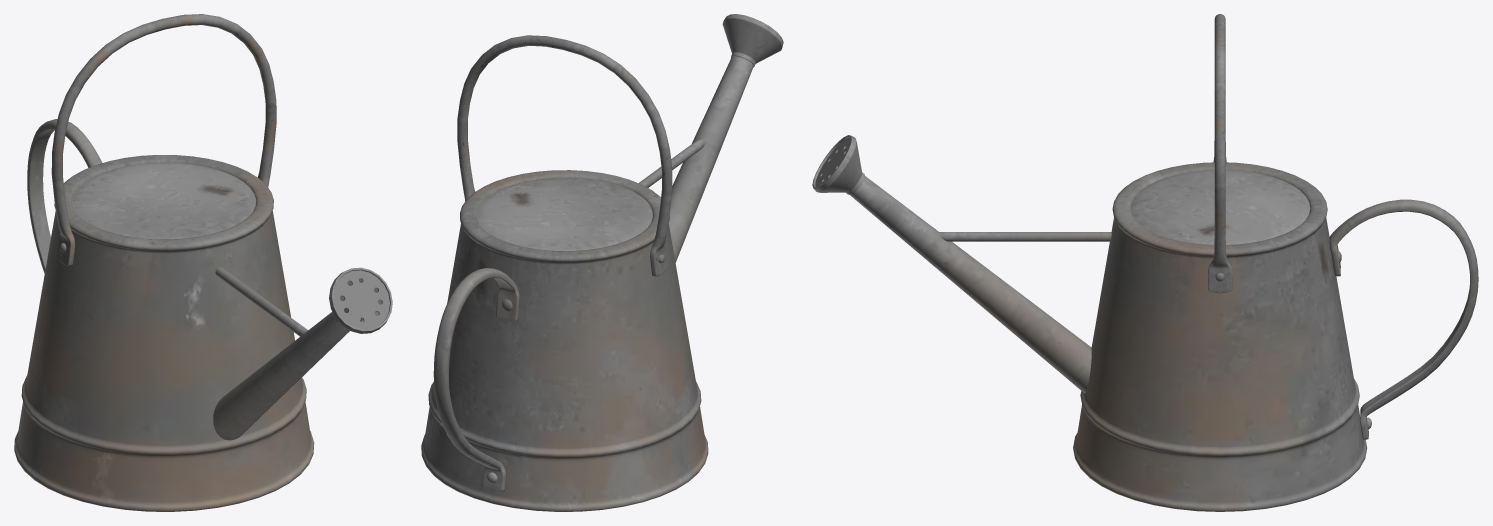
Rendered from arrosoir.glb.
The picture shows the model from 3 angles, left to right: view 1: azimuth 30°, elevation 25°; view 2: azimuth 150°, elevation 25°; view 3: azimuth 270°, elevation 25°; orthographic projection. The views are drawn at different scales.
Visible parts, largest first — view 1: Object_2; view 2: Object_2; view 3: Object_2.
Part boxes in pixels (x1,y1,x2,y2): Object_2: (14,14,392,511); Object_2: (421,14,783,511); Object_2: (812,14,1478,511).
Bounding box in the file's own units: 33.58 × 53.12 × 76.07.
1 material, 1 textured.
